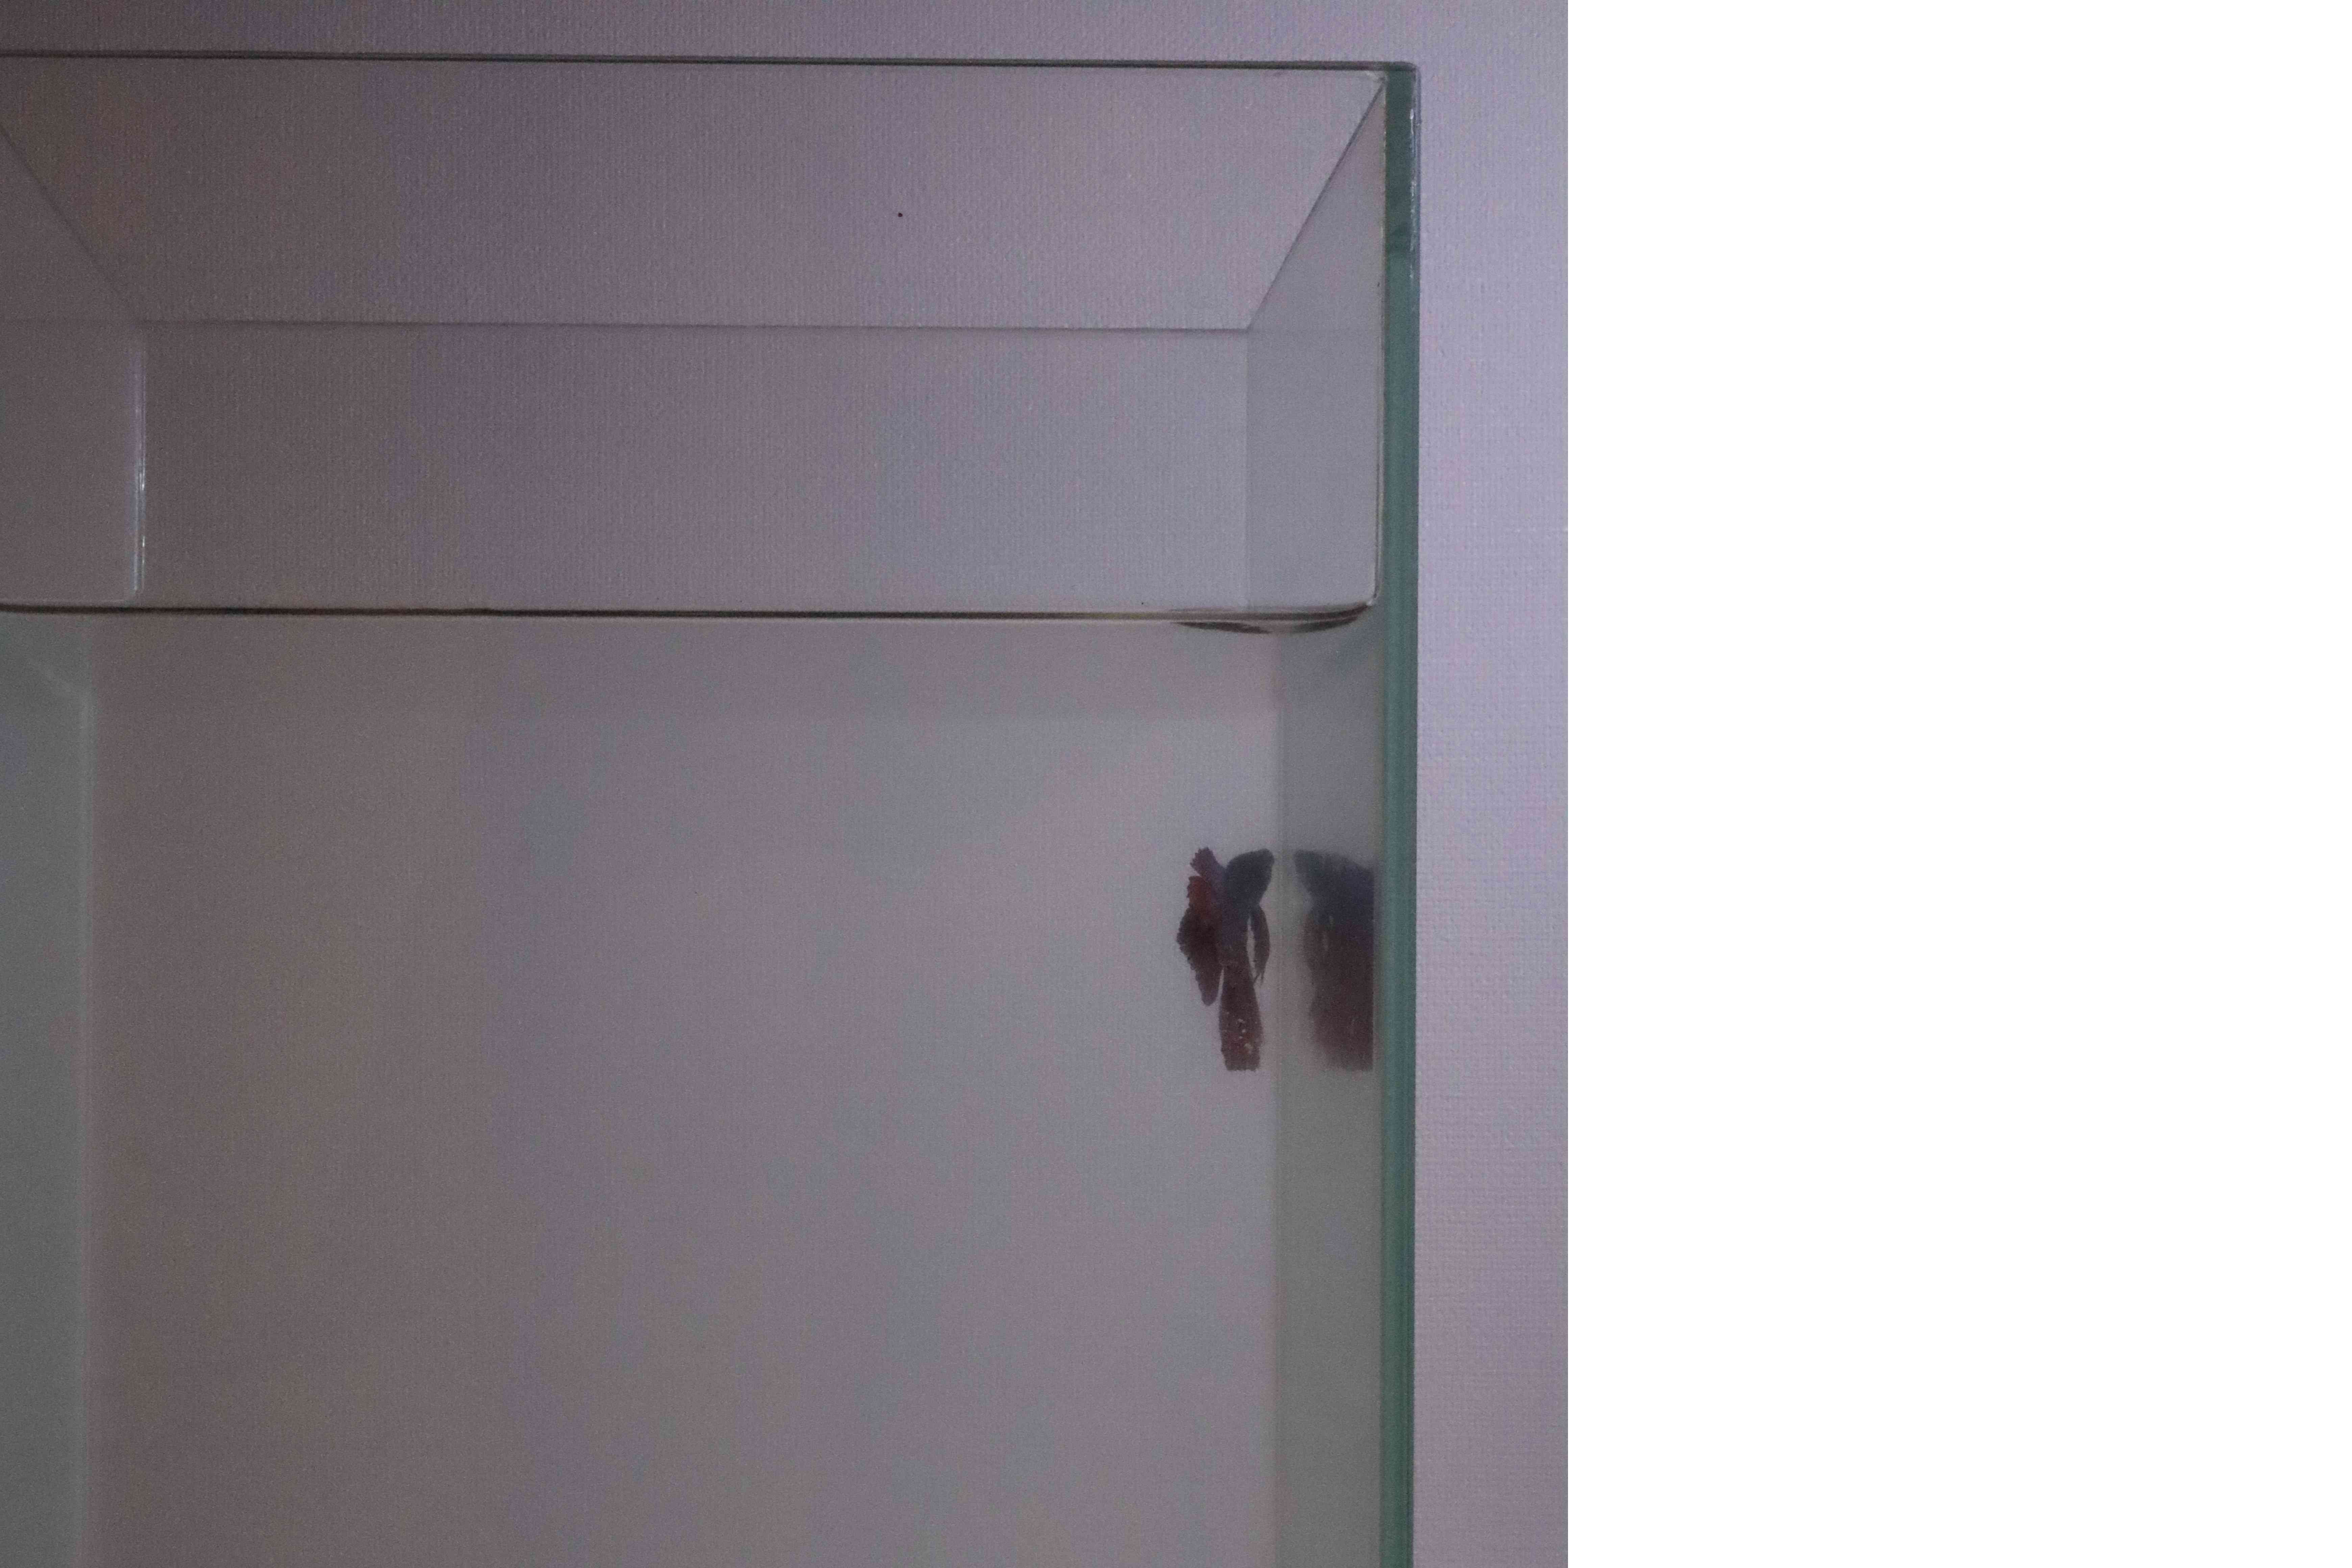fish: (1162, 838, 1298, 1078)
